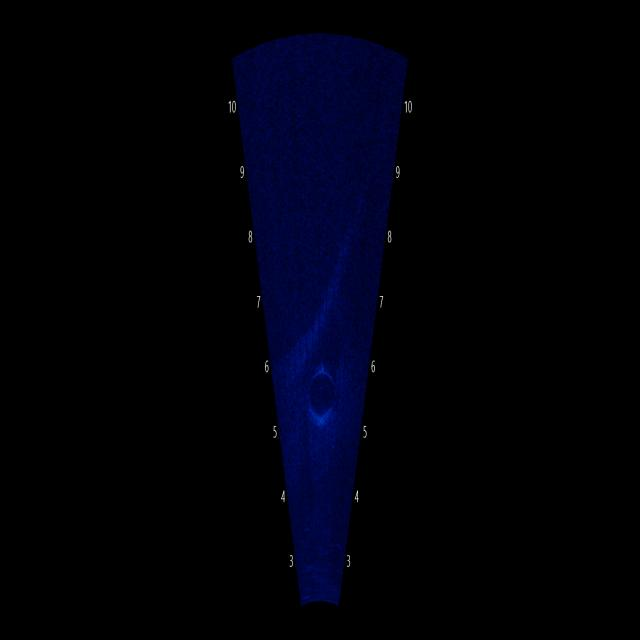circle: (306, 348, 341, 434)
